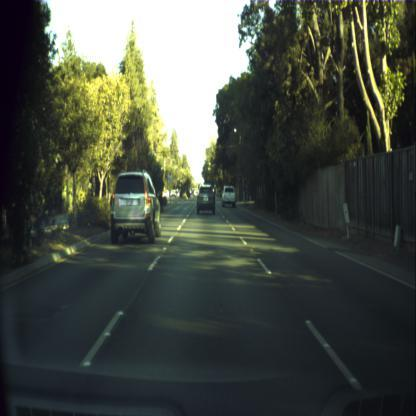Green: (214, 179, 216, 188)
